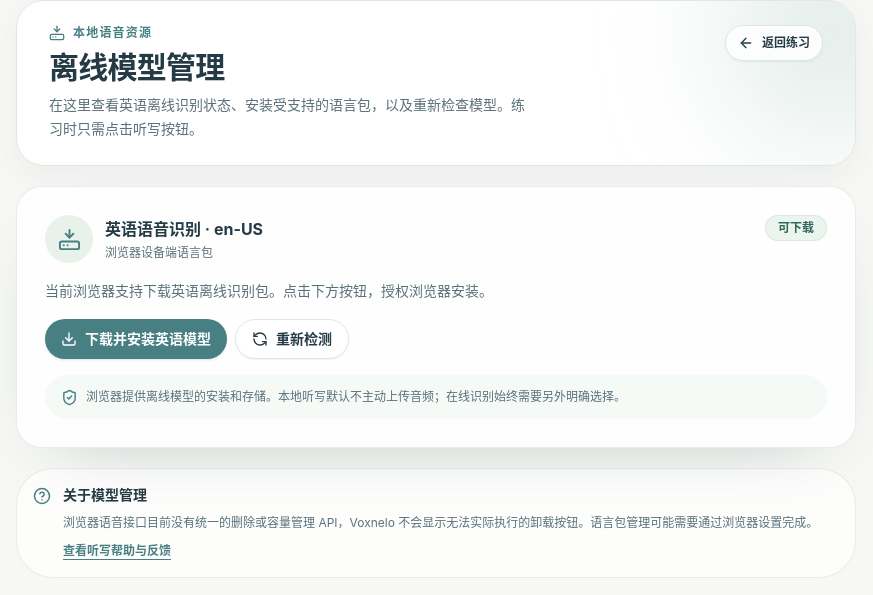
it: Dedicated offline ASR model management › downloads a browser language pack only after clicking within the manager
Step 1. Click the button "下载并安装英语模型" → (136, 339), box [45, 319, 227, 359]
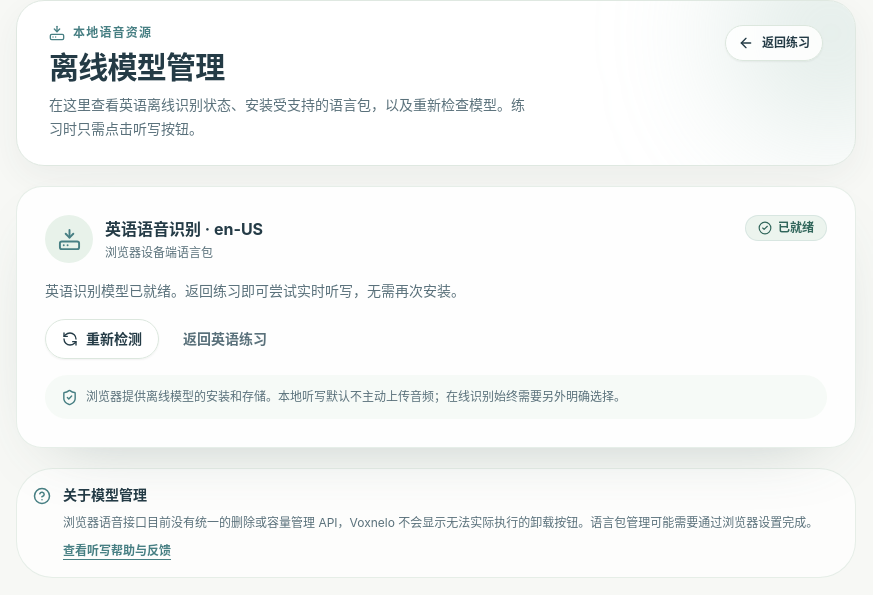
Now the element with test id "model-status" reads "已就绪", box [778, 220, 814, 235]
Now the button "下载并安装英语模型" is gone
Now the text "英语识别模型已就绪。返回练习即可尝试实时听写，无需再次安装。" is shown, box [45, 282, 465, 299]
